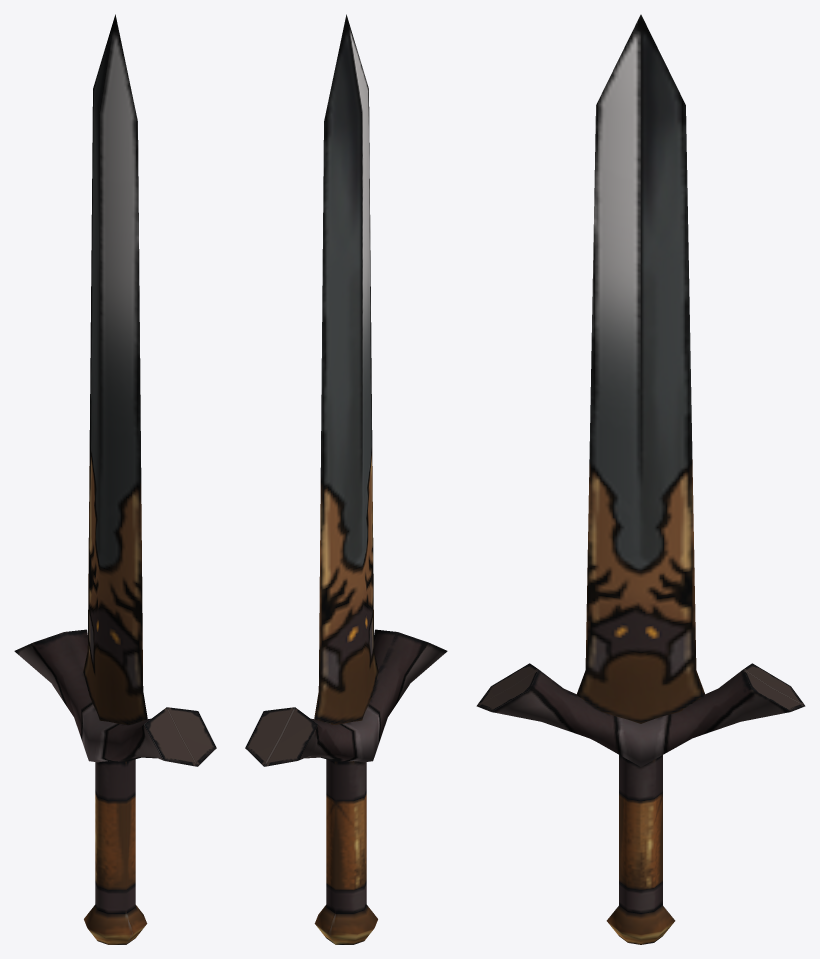
File: WP_2H_Claymore04.FBX
The picture shows the model from 3 angles, left to right: view 1: azimuth 30°, elevation 25°; view 2: azimuth 150°, elevation 25°; view 3: azimuth 270°, elevation 25°; orthographic projection.
Parts seen in each view (by area): view 1: WP_2H_Claymore04; view 2: WP_2H_Claymore04; view 3: WP_2H_Claymore04.
Boxes of the visible parts, x1,y1,x2,y2 form: WP_2H_Claymore04: (14, 14, 216, 944); WP_2H_Claymore04: (245, 14, 447, 944); WP_2H_Claymore04: (476, 14, 805, 944).
Bounding box in the file's own units: 7.4 × 116 × 37.57.
1 material, 1 textured.
